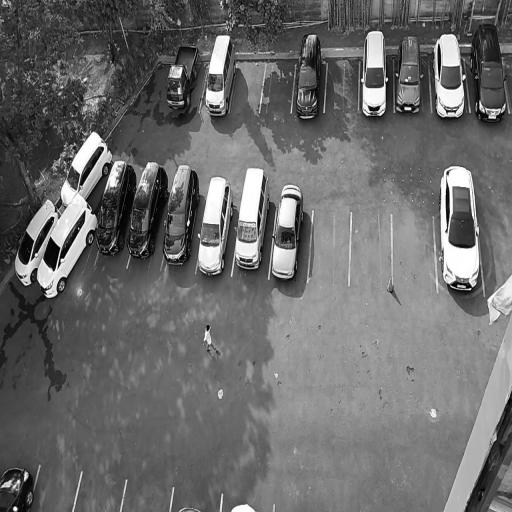Car: (31, 192, 99, 302), (436, 160, 483, 294), (156, 156, 206, 267), (124, 155, 174, 262), (231, 159, 276, 273), (9, 193, 63, 286), (194, 170, 239, 280), (92, 155, 140, 258), (57, 126, 116, 207), (467, 18, 510, 123), (268, 176, 309, 284), (428, 26, 468, 122), (203, 31, 240, 118), (294, 30, 324, 121), (165, 38, 202, 111), (359, 27, 388, 119), (394, 30, 424, 116), (0, 460, 38, 512)
Space Available: (393, 212, 436, 292), (309, 209, 351, 285), (351, 212, 392, 285), (479, 221, 512, 296), (29, 464, 81, 511), (74, 472, 126, 512), (260, 62, 296, 113), (325, 60, 359, 113), (229, 63, 265, 113), (122, 480, 172, 512)
